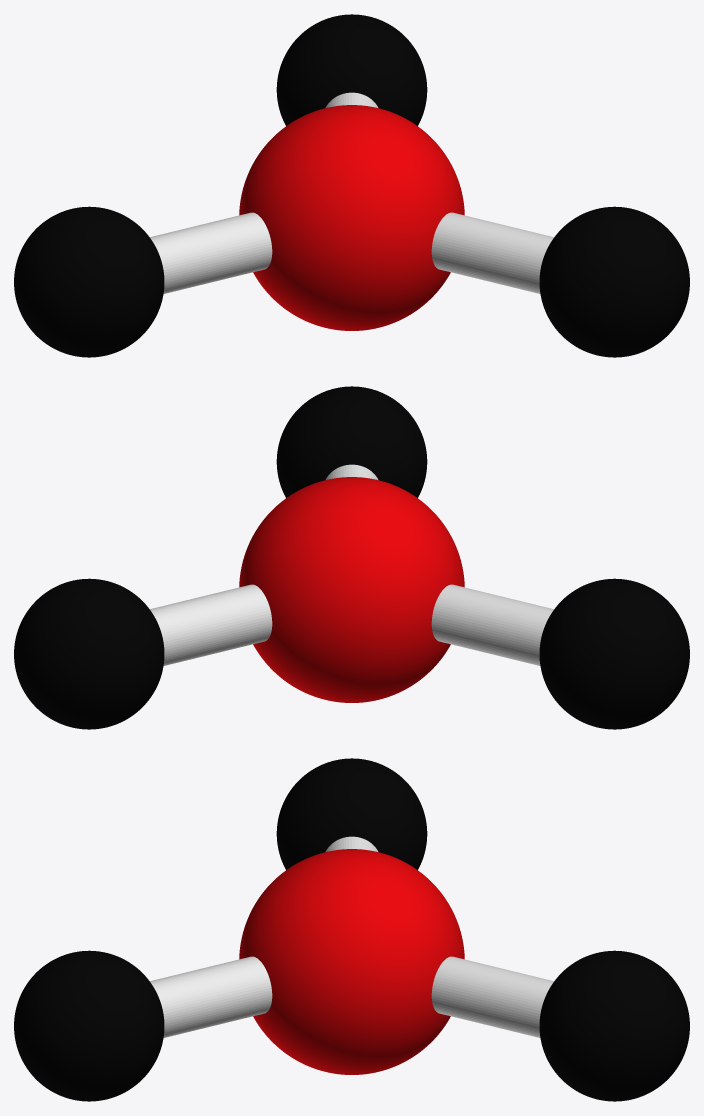
File: trigonalplanar.glb
3 renders of one model, top to bottom at view 1: azimuth 30°, elevation 25°; view 2: azimuth 150°, elevation 25°; view 3: azimuth 270°, elevation 25°, orthographic.
Parts seen in each view (by area): view 1: Sphere, Sphere.002, Sphere.001, Sphere.003; view 2: Sphere, Sphere.001, Sphere.003, Sphere.002; view 3: Sphere, Sphere.003, Sphere.002, Sphere.001.
Part boxes in pixels (x1,y1,x2,y2): Sphere: (239, 105, 464, 330); Sphere.002: (431, 206, 689, 357); Sphere.001: (14, 206, 272, 357); Sphere.003: (276, 14, 427, 125); Sphere: (239, 477, 464, 702); Sphere.001: (431, 578, 689, 729); Sphere.003: (14, 578, 272, 729); Sphere.002: (276, 386, 427, 497); Sphere: (239, 849, 464, 1074); Sphere.003: (431, 950, 689, 1101); Sphere.002: (14, 950, 272, 1101); Sphere.001: (276, 758, 427, 869).
Size of the model in its own units: 7.98 by 3 by 8.91.
